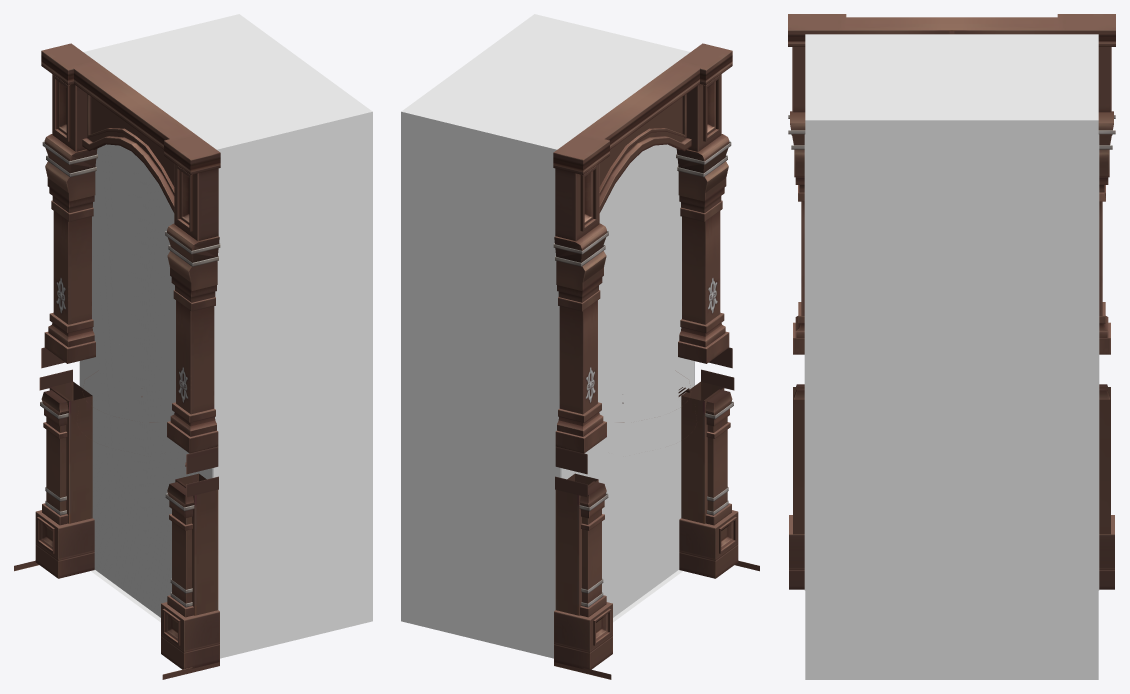
File: my_wildhunt_01_wallcc_03.glb
3 renders of one model, left to right at view 1: azimuth 30°, elevation 25°; view 2: azimuth 150°, elevation 25°; view 3: azimuth 270°, elevation 25°, orthographic. The views are drawn at different scales.
Visible parts, largest first — view 1: my_wildhunt_01_wallcc_03_cover, my_wildhunt_01_wallcc_03, my_wildhunt_01_wallcc_03_hole; view 2: my_wildhunt_01_wallcc_03_cover, my_wildhunt_01_wallcc_03, my_wildhunt_01_wallcc_03_hole; view 3: my_wildhunt_01_wallcc_03_cover, my_wildhunt_01_wallcc_03, my_wildhunt_01_wallcc_03_hole.
Boxes of the visible parts, x1,y1,x2,y2 form: my_wildhunt_01_wallcc_03_cover: (79, 14, 372, 658); my_wildhunt_01_wallcc_03: (14, 43, 220, 679); my_wildhunt_01_wallcc_03_hole: (80, 144, 213, 617); my_wildhunt_01_wallcc_03_cover: (401, 14, 694, 658); my_wildhunt_01_wallcc_03: (553, 43, 759, 679); my_wildhunt_01_wallcc_03_hole: (560, 144, 693, 617); my_wildhunt_01_wallcc_03_cover: (805, 34, 1098, 679); my_wildhunt_01_wallcc_03: (788, 14, 1115, 589); my_wildhunt_01_wallcc_03_hole: (804, 134, 1099, 590).
Size of the model in its own units: 0.0207 by 0.0452 by 0.0238.
Materials: 4 (2 with a texture image).
